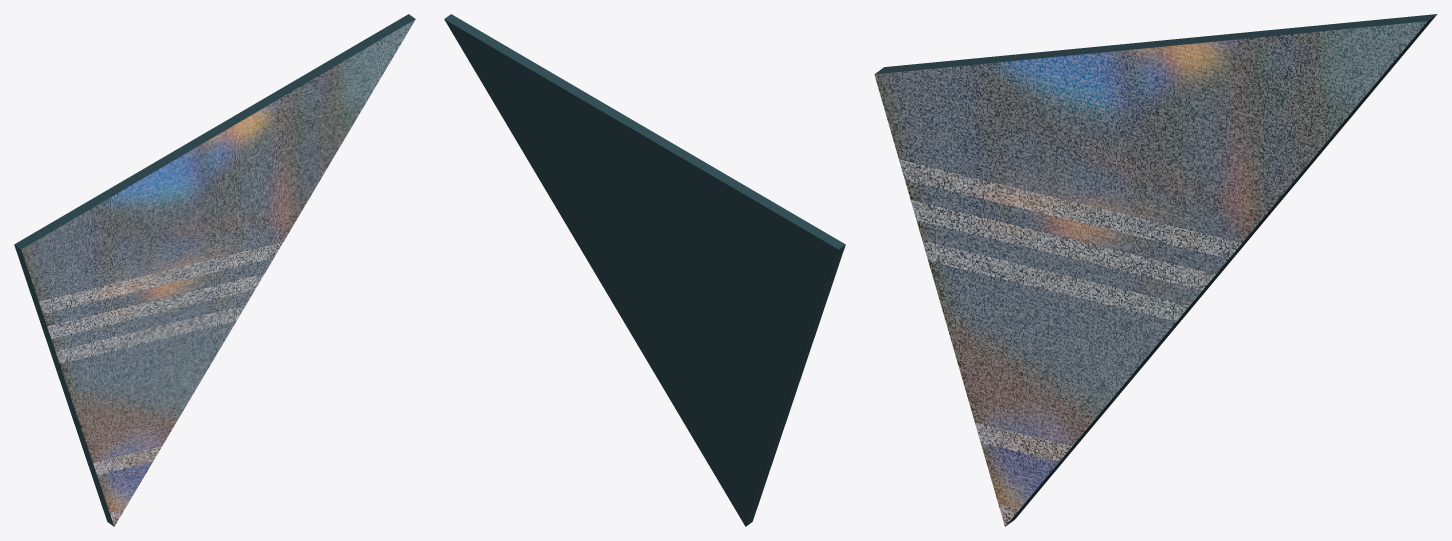
The picture shows the model from 3 angles, left to right: view 1: azimuth 30°, elevation 25°; view 2: azimuth 150°, elevation 25°; view 3: azimuth 330°, elevation 25°; orthographic projection. The views are drawn at different scales.
Visible parts, largest first — view 1: Piece_07; view 2: Piece_07; view 3: Piece_07.
Part boxes in pixels (box(x1,y1,x2,y2)): Piece_07: box(14, 14, 415, 526); Piece_07: box(444, 14, 845, 526); Piece_07: box(874, 14, 1437, 526).
Bounding box in the file's own units: 0.809 × 0.8507 × 0.025.
2 materials, 1 textured.
